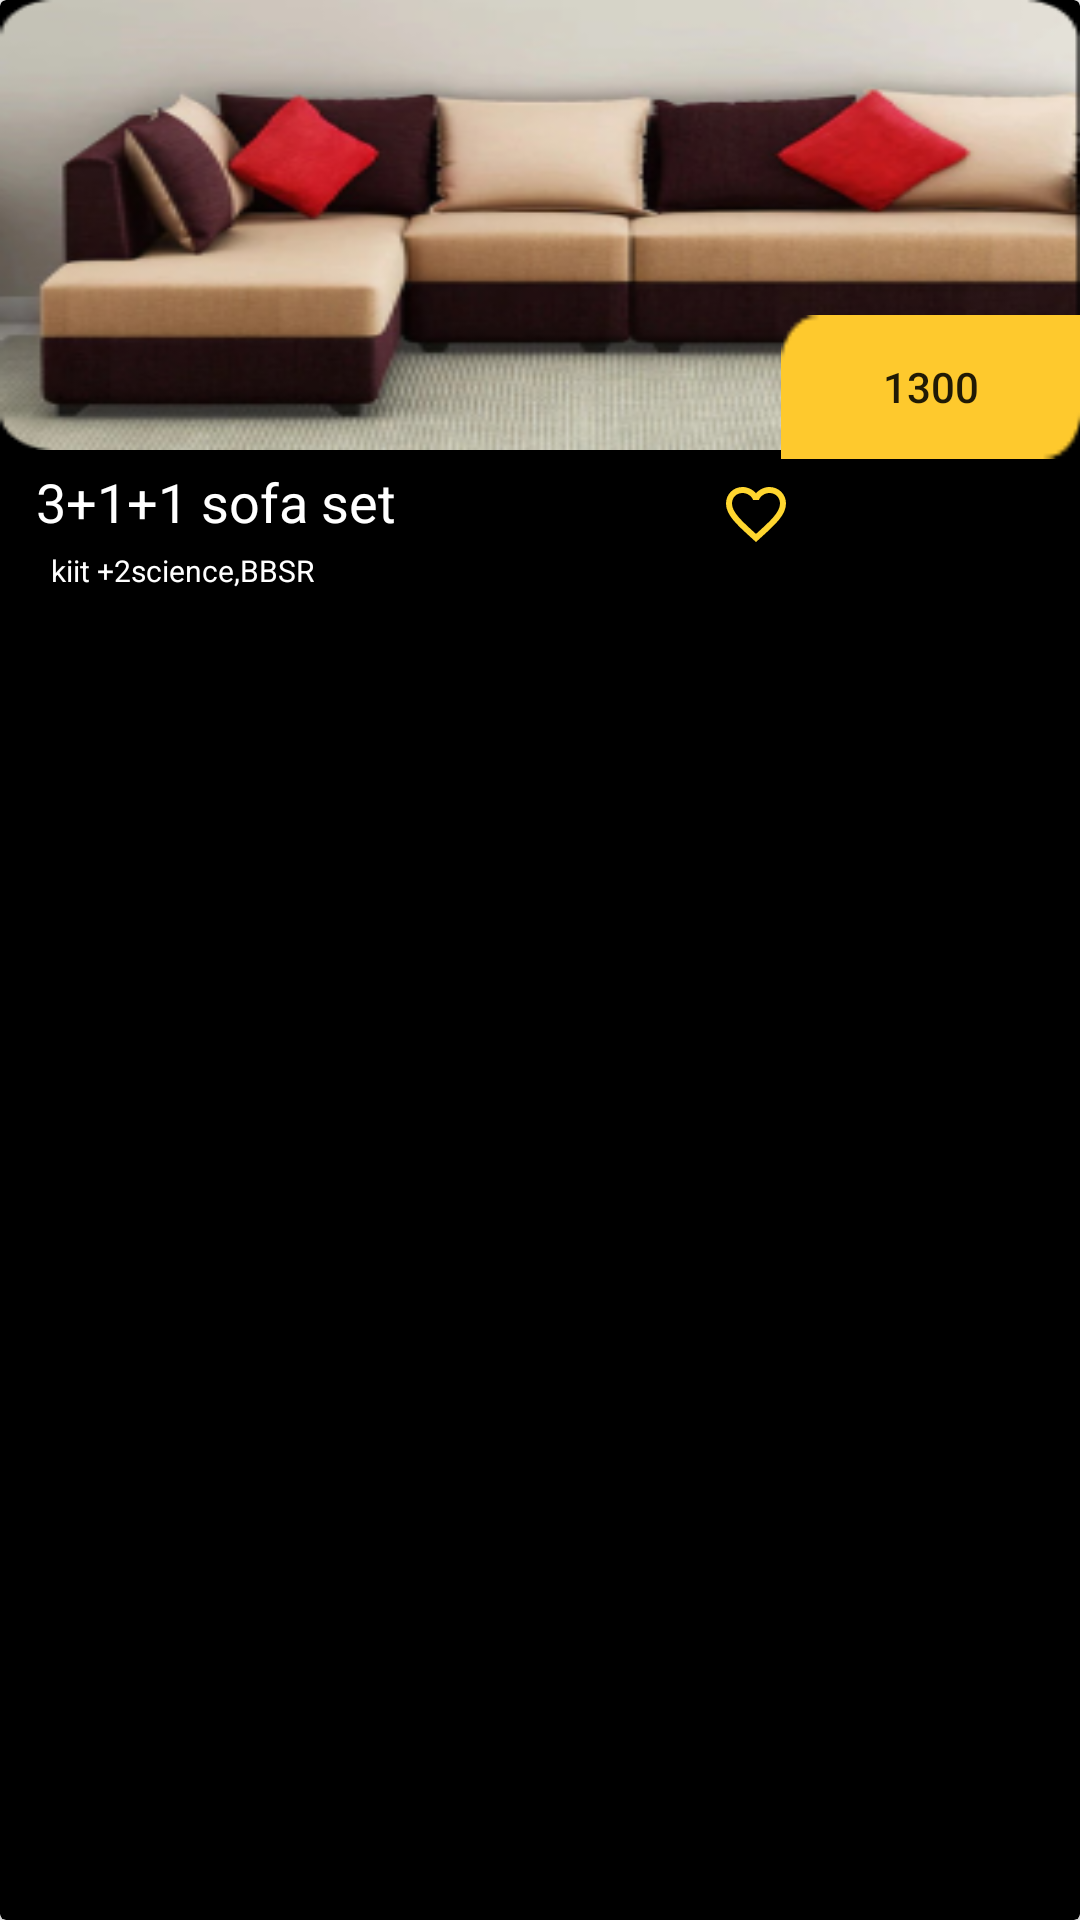

Where icons sit on this 1080×1920 app screen, as {"x1": x1, "y1": y1, "x2": x2, "y2": y2}:
favorite border: {"x1": 726, "y1": 487, "x2": 786, "y2": 542}
